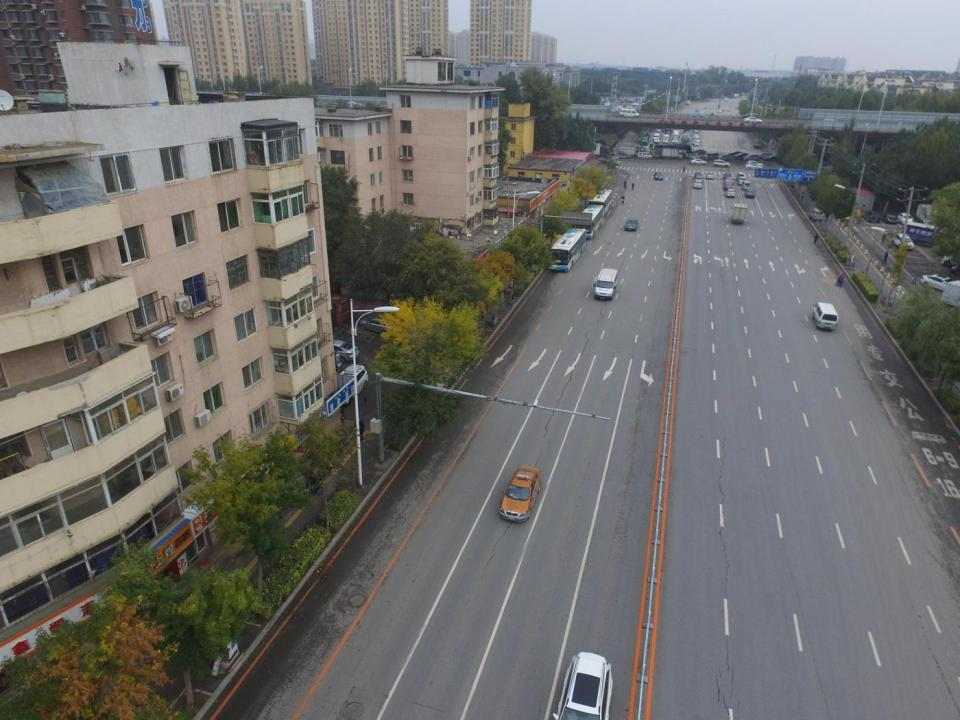bus: (548, 228, 586, 272), (574, 205, 604, 239), (589, 189, 612, 217)
car: (551, 651, 614, 720), (499, 466, 541, 523), (335, 364, 368, 401), (318, 340, 358, 362), (359, 318, 398, 334), (922, 272, 954, 291), (941, 280, 960, 306), (892, 232, 913, 250), (939, 254, 960, 266), (880, 212, 898, 223), (898, 212, 914, 224), (863, 211, 880, 222), (625, 219, 638, 231), (713, 159, 730, 167), (690, 158, 706, 166), (744, 116, 762, 122), (743, 154, 761, 160), (691, 154, 708, 160), (704, 152, 718, 159), (759, 152, 775, 158), (718, 154, 734, 160), (740, 113, 758, 118), (746, 160, 761, 166), (765, 156, 783, 161), (693, 179, 702, 188), (734, 153, 750, 158), (728, 151, 744, 156), (745, 189, 755, 197), (693, 148, 706, 154), (690, 113, 705, 118), (747, 164, 762, 169), (654, 172, 663, 180), (693, 172, 702, 180), (723, 182, 732, 190), (723, 172, 732, 179), (706, 172, 714, 179), (726, 189, 734, 196), (725, 177, 734, 183)
truck: (903, 222, 951, 244), (650, 143, 692, 158), (618, 143, 648, 156), (580, 143, 610, 156), (730, 203, 747, 224), (660, 148, 682, 159), (642, 134, 650, 145)
van: (593, 268, 618, 300), (812, 302, 838, 330), (809, 207, 824, 221), (619, 108, 639, 116), (824, 118, 839, 126), (637, 152, 652, 159), (742, 180, 750, 189), (736, 172, 744, 180), (738, 177, 746, 185)
